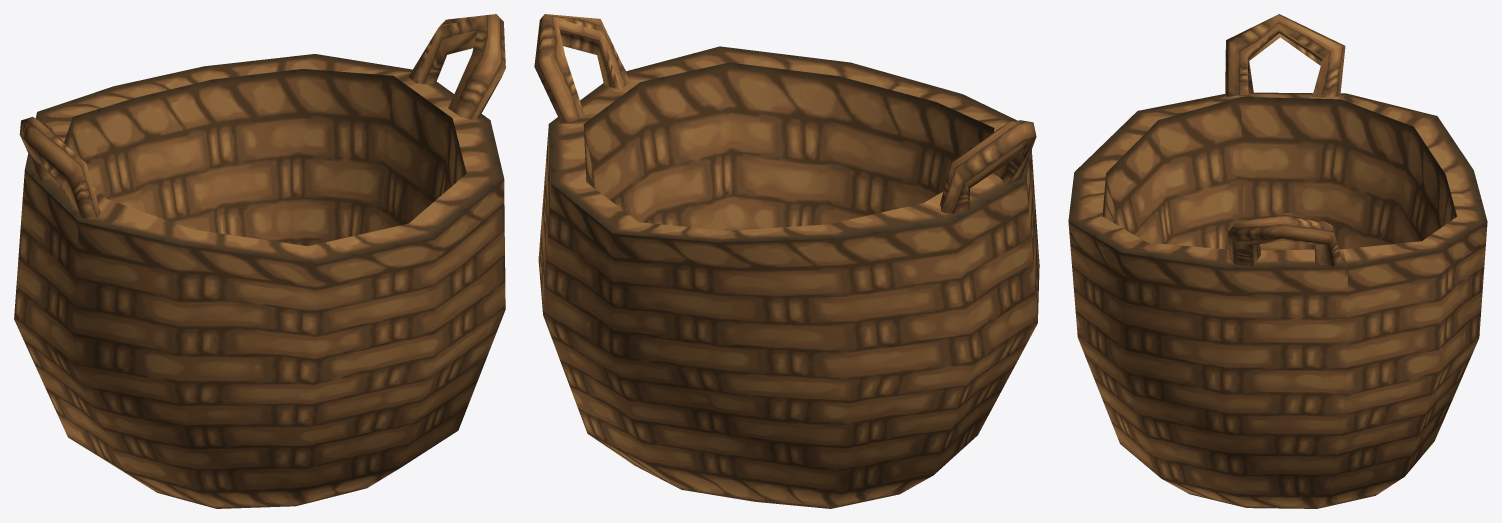
Rendered from SM_PROP_basket_battle_02.fbx.
3 views of the same model, side by side, from view 1: azimuth 30°, elevation 25°; view 2: azimuth 150°, elevation 25°; view 3: azimuth 270°, elevation 25° (orthographic). The views are drawn at different scales.
Visible parts, largest first — view 1: SM_PROP_basket_battle_02; view 2: SM_PROP_basket_battle_02; view 3: SM_PROP_basket_battle_02.
Boxes of the visible parts, bbox=[...] form: SM_PROP_basket_battle_02: bbox=[14, 14, 505, 508]; SM_PROP_basket_battle_02: bbox=[534, 14, 1039, 508]; SM_PROP_basket_battle_02: bbox=[1068, 14, 1487, 508].
Size of the model in its own units: 66.66 by 50.45 by 56.23.
